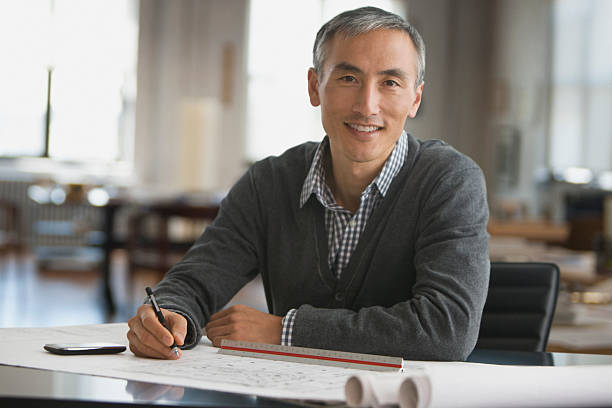person: (306, 4, 427, 164)
